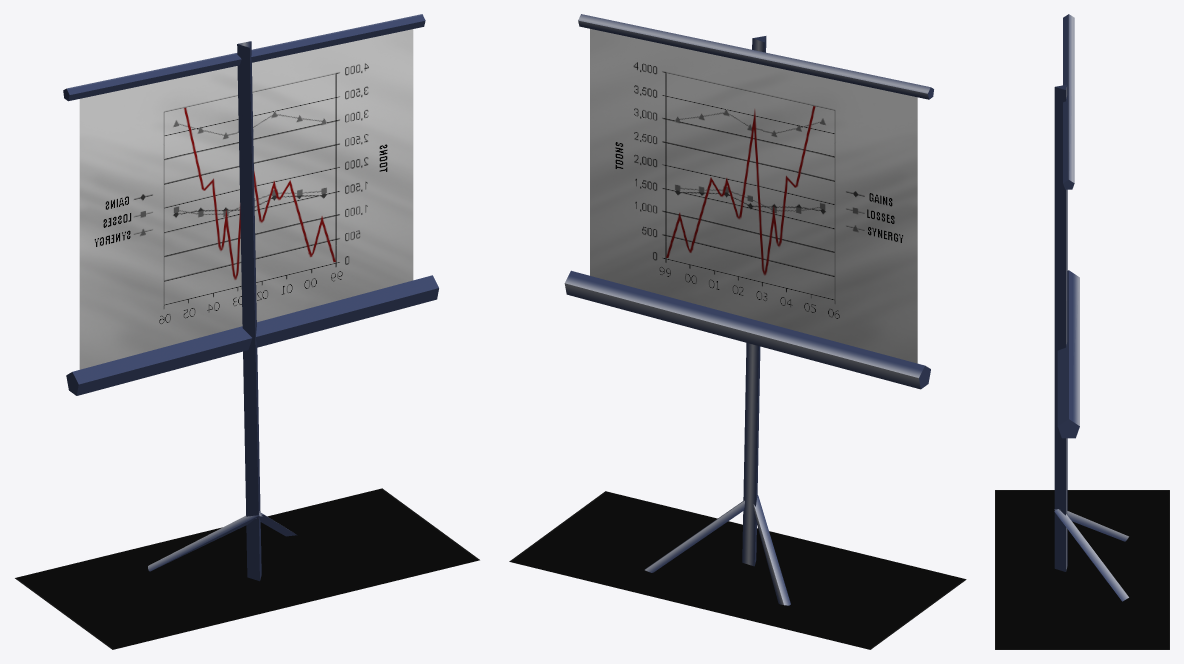
File: presentation.fbx
3 views of the same model, side by side, from view 1: azimuth 30°, elevation 25°; view 2: azimuth 150°, elevation 25°; view 3: azimuth 270°, elevation 25° (orthographic). The views are drawn at different scales.
Parts seen in each view (by area): view 1: pPlane1, shadow, pCylinder1, pCylinder3, pCylinder2, pCylinder4; view 2: pPlane1, shadow, pCylinder1, pCylinder2, pCylinder3, pCylinder4 (×2); view 3: shadow, pCylinder3, pCylinder1, pCylinder2, pCylinder4 (×2).
Part boxes in pixels (left/top/right/bottom): pPlane1: left=79, top=29, right=413, bottom=369; shadow: left=15, top=488, right=479, bottom=649; pCylinder1: left=66, top=275, right=438, bottom=395; pCylinder3: left=237, top=41, right=261, bottom=581; pCylinder2: left=63, top=14, right=425, bottom=101; pCylinder4: left=148, top=511, right=262, bottom=571; pPlane1: left=590, top=29, right=917, bottom=363; shadow: left=509, top=491, right=966, bottom=649; pCylinder1: left=564, top=270, right=930, bottom=389; pCylinder2: left=578, top=14, right=933, bottom=99; pCylinder3: left=742, top=36, right=766, bottom=566; pCylinder4 (×2): left=644, top=495, right=790, bottom=605; shadow: left=995, top=490, right=1169, bottom=649; pCylinder3: left=1054, top=84, right=1067, bottom=571; pCylinder1: left=1057, top=270, right=1079, bottom=438; pCylinder2: left=1063, top=14, right=1074, bottom=189; pCylinder4 (×2): left=1054, top=509, right=1128, bottom=601.
Bounding box in the file's own units: 3.71 × 5.11 × 1.69.
3 materials, 3 textured.
